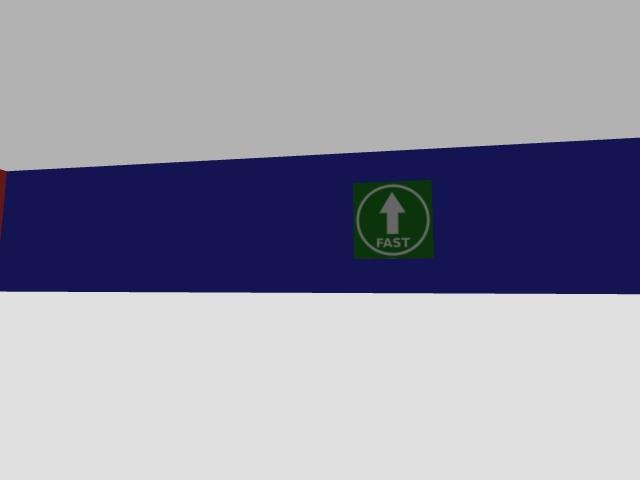fast: (354, 180, 433, 257)
